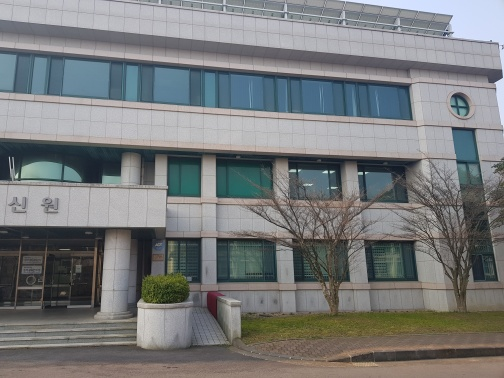Information Telecommunication Center: (1, 4, 500, 309), (9, 237, 99, 306), (5, 187, 71, 226)
